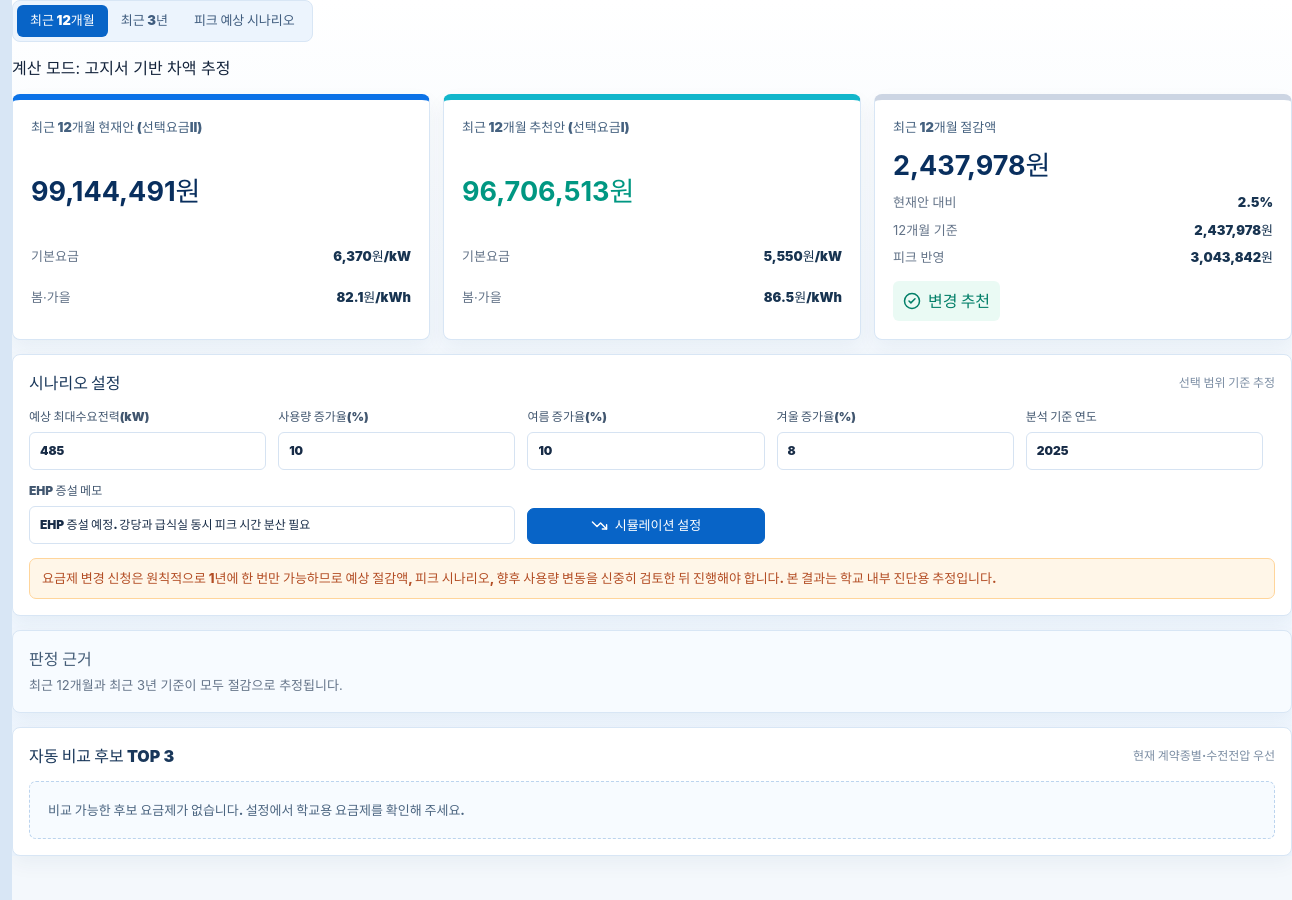
Scenario: rate simulator usability harness › shows accessible validation and does not persist invalid 예상 최대수요전력(kW)
Replace the text in the number field labelled "예상 최대수요전력(kW)" with "0": (148,451) left=29, top=432, right=266, bottom=470
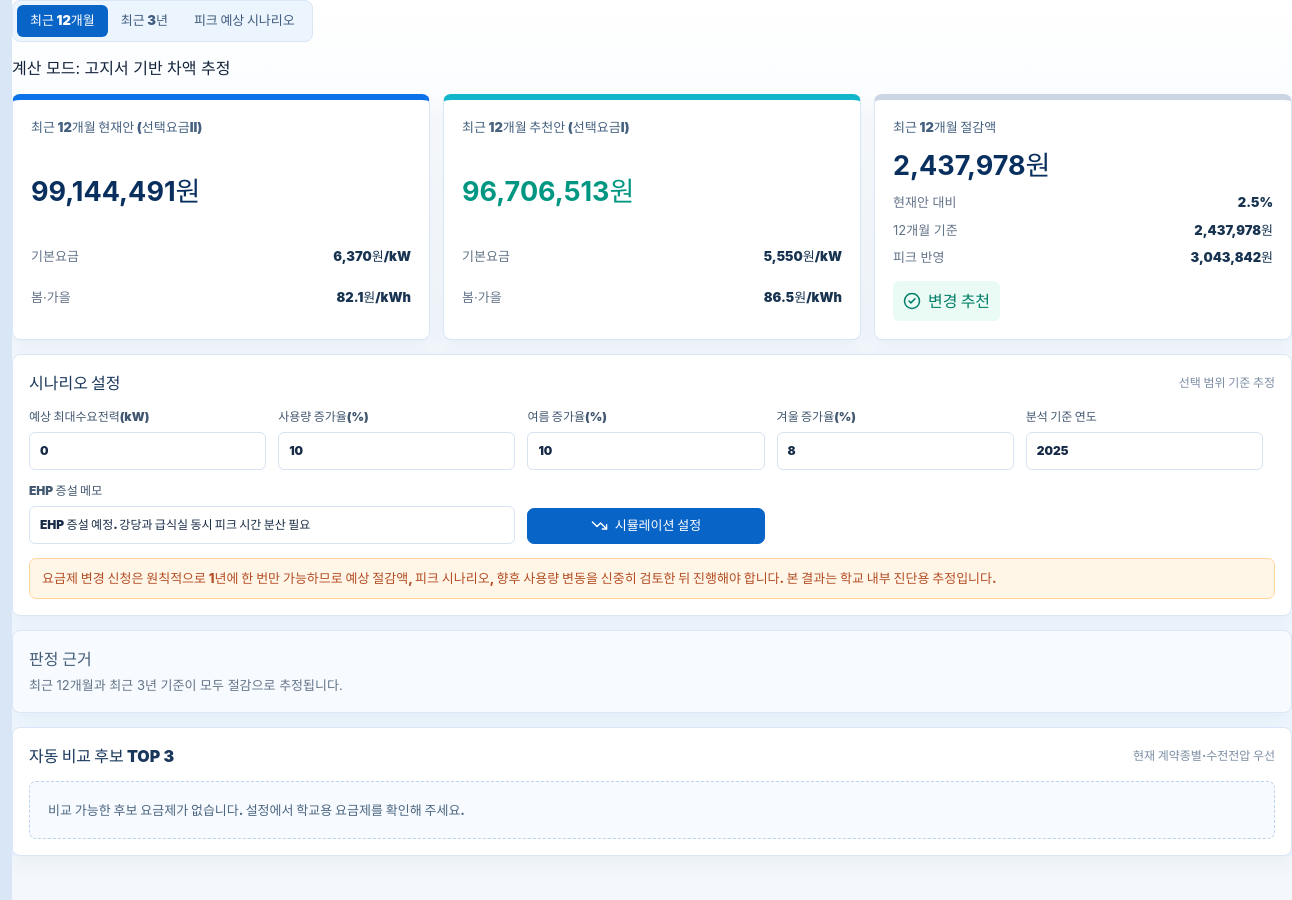
Click the button "시뮬레이션 설정": (646,526) left=527, top=508, right=765, bottom=544
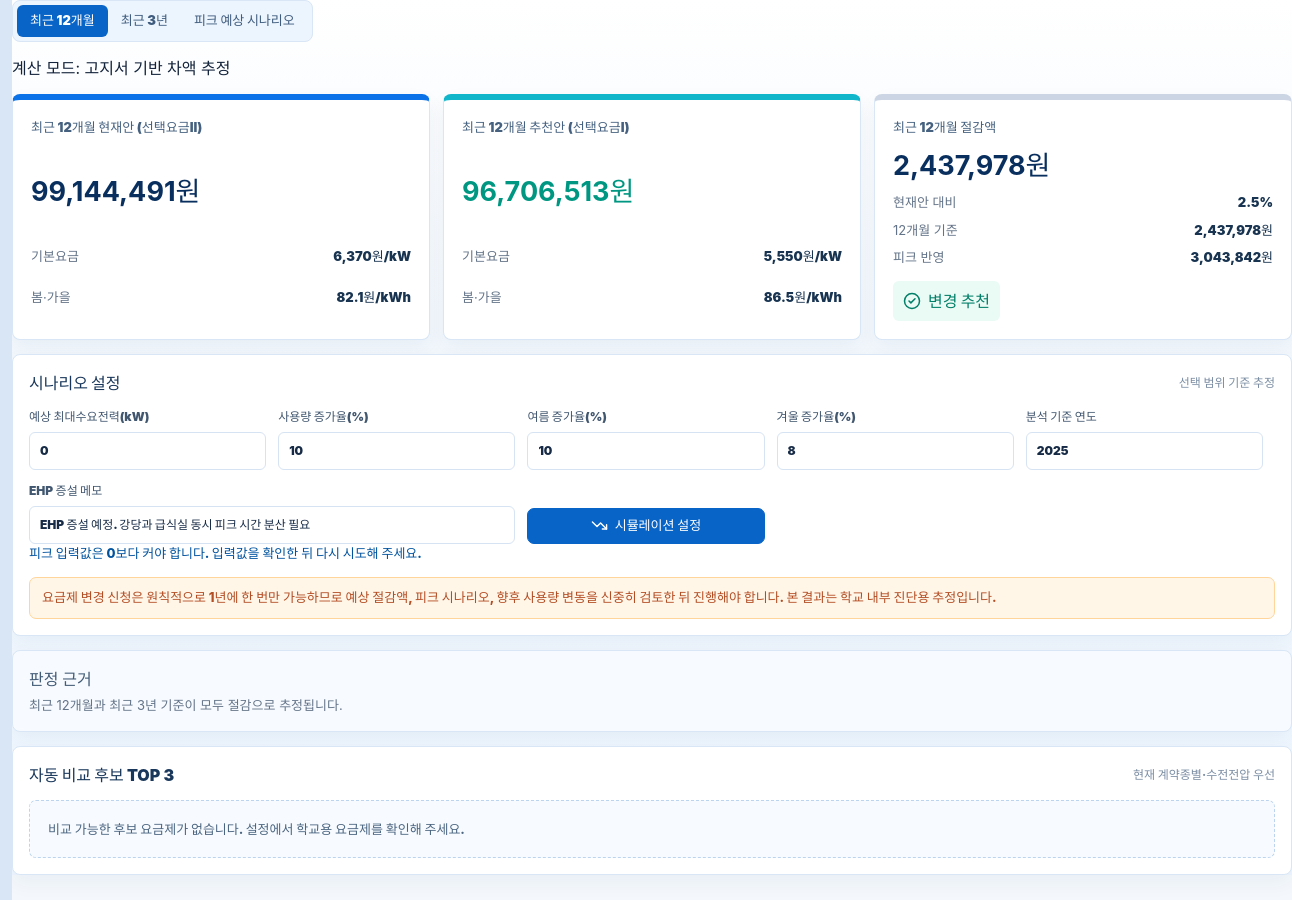
Now the message shows "입력", box left=29, top=545, right=422, bottom=561
